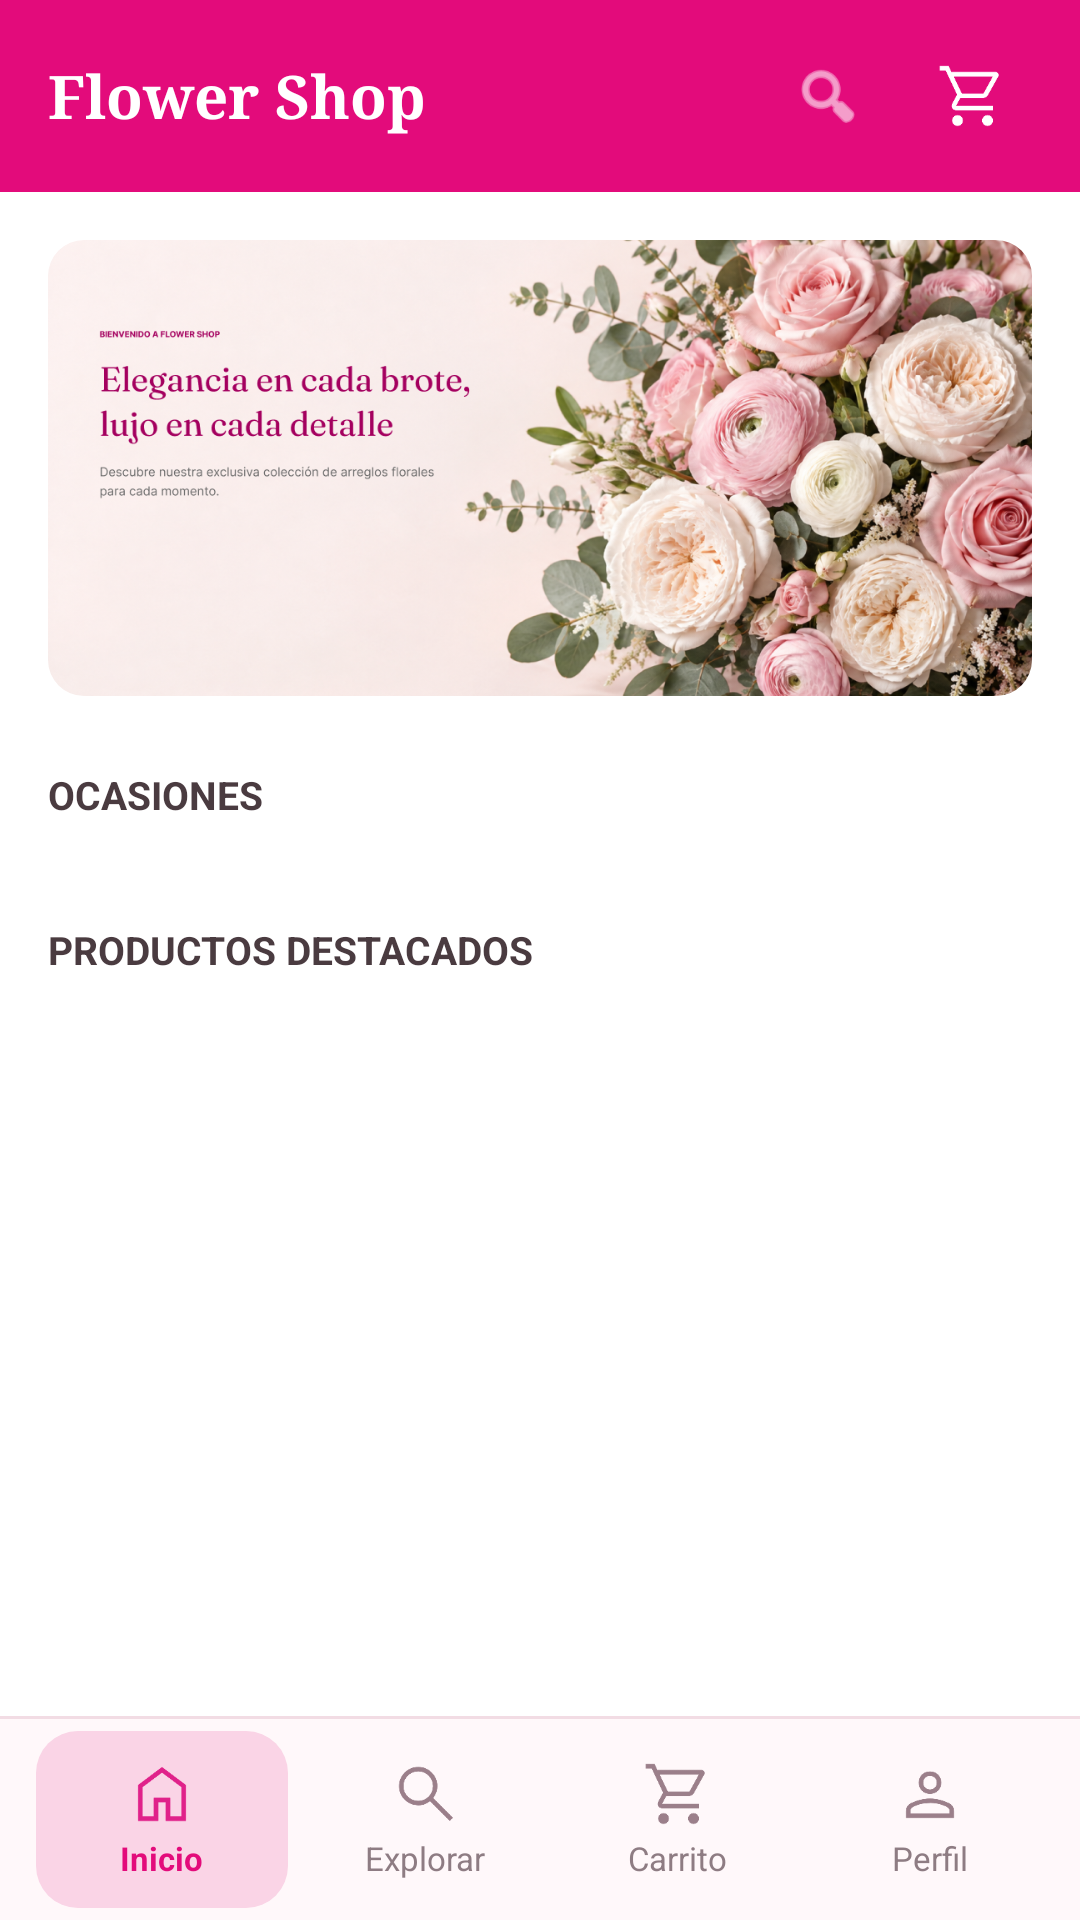

Point at icon controls on the screen. Image size 1080 x 1920, points as point (x, y).
Abrir carrito: point (969, 95)
Buscar productos: point (828, 96)
